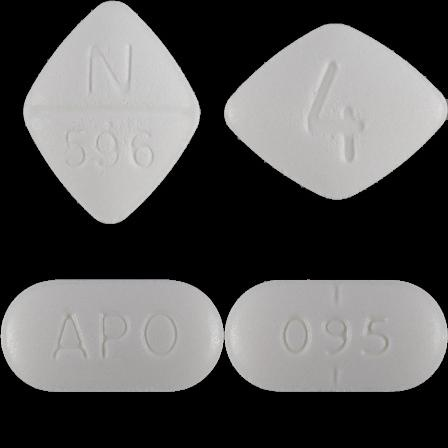53808-0362: (0, 0, 224, 224)
